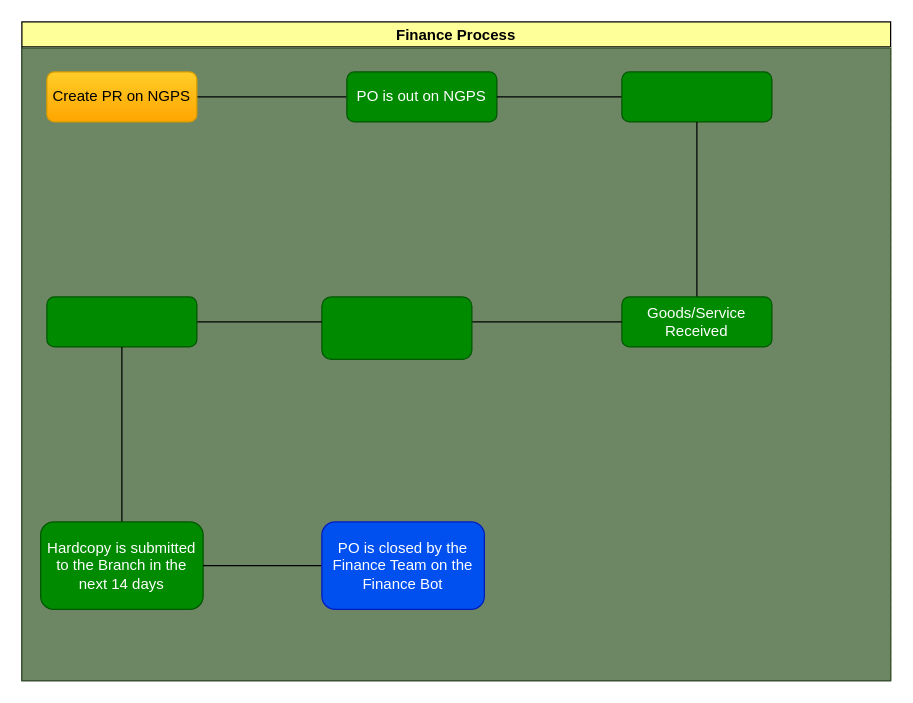
The diagram is 913 pixels wide and 703 high, and some of its shapes have lost their labels. Here are the shapes that lost their labels. From the top down, the centre of each, then its label:
At (x=696, y=96): "PO is added into the Finance Bot".
At (x=121, y=321): "GR Process is carried out".
At (x=396, y=327): "Invoice submitted by POC through the Finance Bot".
